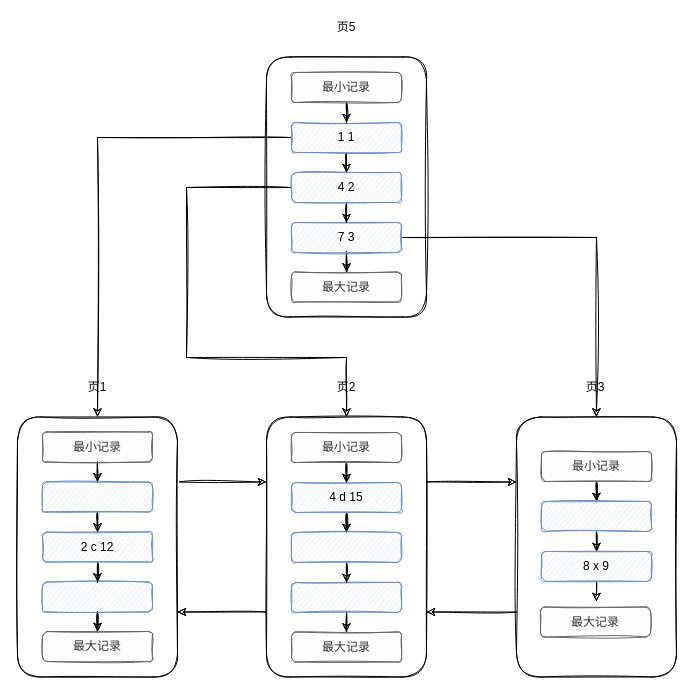
Some shapes in this 694 by 694 pixel diagram are drawn without their labels. The shapes that lost their labels are listed below. From the top down, each one's centre as x and y in pixels, then its label:
At (x=97, y=496): "1 a 10".
At (x=596, y=516): "7 k 12".
At (x=346, y=547): "5 h 17".
At (x=97, y=596): "3 b 9".
At (x=346, y=597): "6 l 13".
